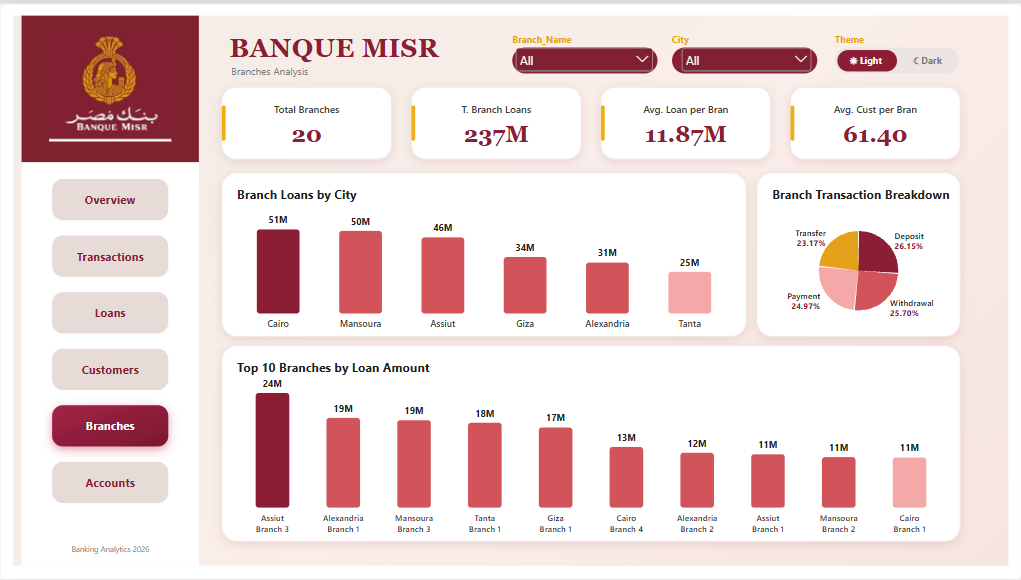

This screenshot's page, from the dashboard's own definition file:
{"tool":"powerbi","page":{"name":"Branches HTML","canvas":[1280,720],"ordinal":5},"visuals":[{"type":"htmlContent443BE3AD55E043BF878BED274D3A6855","fields":{"content":["DAX.HTML Branches"]},"box":[0,0,1279.6,720.4],"z":0},{"type":"slicer","fields":{"Values":["Branches Dim.Branch_Name"]},"box":[640.7,50,181.5,37],"z":1000},{"type":"slicer","fields":{"Values":["Branches Dim.City"]},"box":[848.1,50,172.2,37],"z":2000},{"type":"actionButton","box":[64.8,288.9,150,53.7],"z":3000},{"type":"actionButton","box":[64.8,222.2,150,53.7],"z":4000},{"type":"actionButton","box":[64.8,361.1,150,53.7],"z":5000},{"type":"actionButton","box":[64.8,431.5,150,51.9],"z":6000},{"type":"actionButton","box":[64.8,568.5,150,53.7],"z":7000},{"type":"actionButton","box":[25.9,14.8,229.4,178.4],"z":8000}]}

Visuals, with their boxes in screenshot pixels (x1, y1, x2, y2), scaled from the page's 1280x720 canvas onto the 1021x580 screenshot:
htmlContent443BE3AD55E043BF878BED274D3A6855 - DAX.HTML Branches: (0,0,1020,579)
slicer - Branches Dim.Branch_Name: (511,40,656,70)
slicer - Branches Dim.City: (676,40,814,70)
actionButton: (52,233,171,276)
actionButton: (52,179,171,222)
actionButton: (52,291,171,334)
actionButton: (52,348,171,389)
actionButton: (52,458,171,501)
actionButton: (21,12,204,156)
